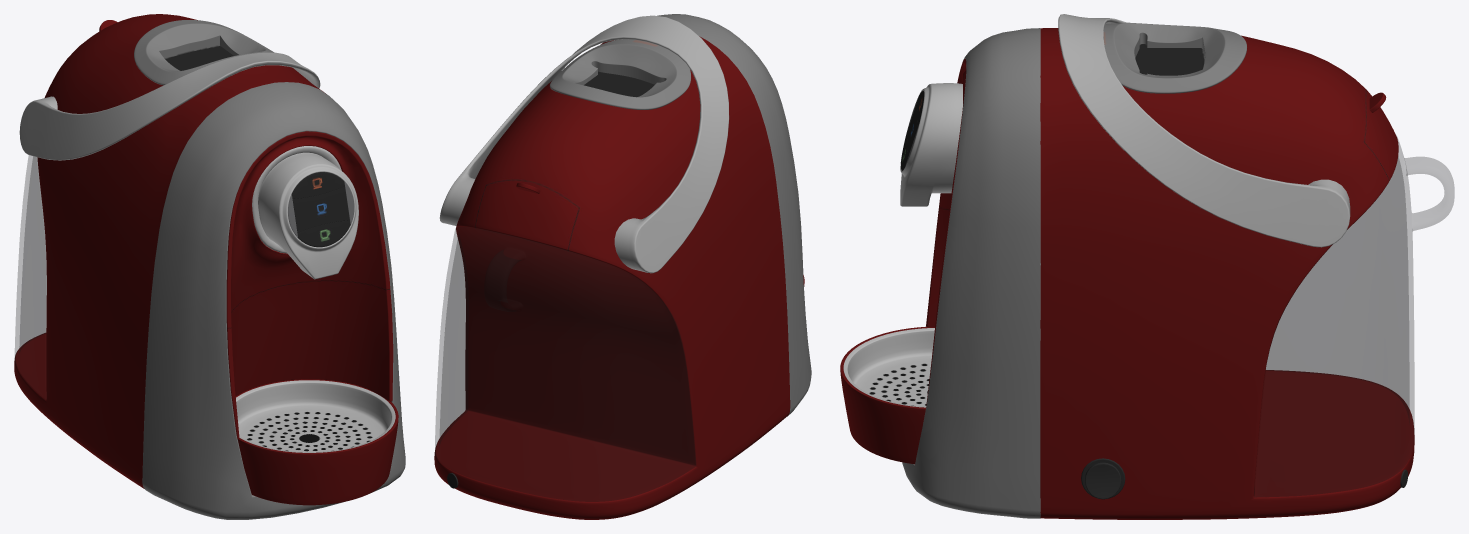
3 renders of one model, left to right at view 1: azimuth 30°, elevation 25°; view 2: azimuth 150°, elevation 25°; view 3: azimuth 270°, elevation 25°, orthographic. The views are drawn at different scales.
Parts seen in each view (by area): view 1: Main_Body, Front_Part, Coffee_Out_Sheild, Metal_plate, Handle, Coffe_Bowl, Coffee_Out, Glass, Upper_Part_a, Buttons; view 2: Main_Body, Glass, Handle, Front_Part, Upper_Part_a; view 3: Main_Body, Front_Part, Glass, Handle, Upper_Part_a, Metal_plate, Coffee_Out, Coffe_Bowl, Coffee_Out_Sheild, Black_Buttons, Buttons.
Part boxes in pixels (<box>): Main_Body: <box>14,14,325,488</box>; Front_Part: <box>142,82,405,519</box>; Coffee_Out_Sheild: <box>226,131,393,438</box>; Metal_plate: <box>236,380,395,452</box>; Handle: <box>19,52,320,160</box>; Coffe_Bowl: <box>235,379,398,505</box>; Coffee_Out: <box>252,146,358,279</box>; Glass: <box>15,155,46,399</box>; Upper_Part_a: <box>134,20,274,85</box>; Buttons: <box>288,172,354,247</box>; Main_Body: <box>434,36,790,519</box>; Glass: <box>435,227,695,501</box>; Handle: <box>439,15,729,273</box>; Front_Part: <box>657,14,811,416</box>; Upper_Part_a: <box>550,39,690,109</box>; Main_Body: <box>1040,28,1414,519</box>; Front_Part: <box>902,28,1040,518</box>; Glass: <box>1254,135,1454,497</box>; Handle: <box>1058,14,1350,247</box>; Upper_Part_a: <box>1103,22,1246,93</box>; Metal_plate: <box>843,328,934,407</box>; Coffee_Out: <box>900,83,962,206</box>; Coffe_Bowl: <box>840,326,934,464</box>; Coffee_Out_Sheild: <box>926,58,966,407</box>; Black_Buttons: <box>1081,458,1407,499</box>; Buttons: <box>901,90,924,170</box>.
Bounding box in the file's own units: 0.3122 × 0.4647 × 0.5933.
3 materials, 3 textured.
